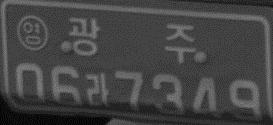0: (15, 61, 45, 106)
3: (151, 74, 187, 116)
4: (191, 78, 224, 119)
6: (50, 66, 81, 109)
7: (114, 70, 143, 112)
9: (228, 78, 263, 122)
광주_D: (68, 16, 196, 64)
라: (85, 72, 111, 110)
영: (15, 14, 48, 51)
